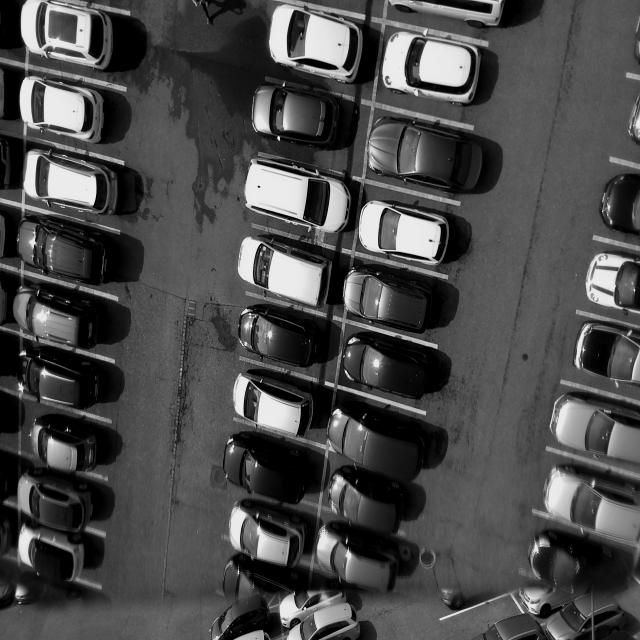car: (367, 114, 486, 196), (244, 157, 354, 242), (381, 28, 491, 107), (325, 405, 433, 485), (543, 461, 640, 549), (268, 1, 367, 87), (17, 214, 114, 291), (237, 233, 336, 308), (23, 147, 122, 221), (253, 78, 343, 155), (22, 1, 118, 73), (12, 285, 109, 355), (344, 334, 435, 405), (344, 268, 437, 337), (20, 74, 110, 144), (223, 438, 316, 505), (230, 370, 320, 439), (359, 201, 453, 267), (314, 528, 407, 593), (327, 466, 408, 540), (237, 306, 325, 372), (229, 498, 311, 568), (20, 350, 105, 414), (17, 471, 100, 536), (30, 412, 108, 478)
